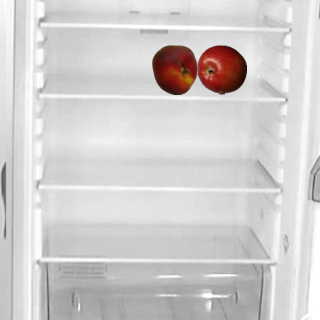Apple Braeburn: (196, 44, 246, 94)
Nectarine Flat: (149, 44, 199, 94)
